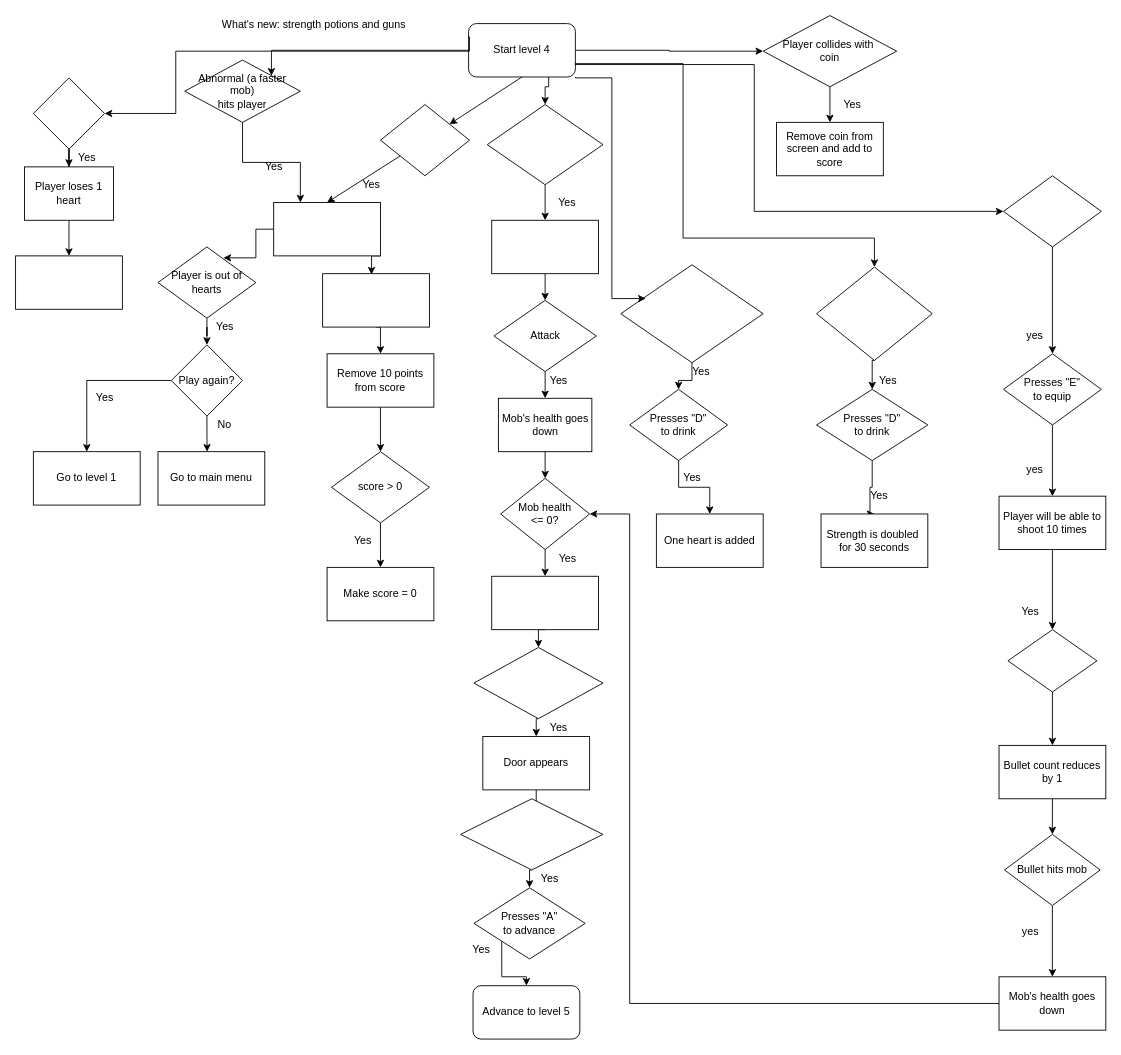
The diagram is 1121 pixels wide and 1055 high, and some of its shapes have lost their labels. Here are the shapes that lost their labels. From the top down, the centre of each, then its label:
At (x=68, y=113): "Player touches lava block".
At (x=424, y=140): "Mob hits player".
At (x=544, y=144): "Player is in range of mob".
At (x=326, y=229): "Player loses one heart".
At (x=1052, y=211): "Player is infront of gun".
At (x=545, y=246): "Player is able to attack mob".
At (x=68, y=282): "10 second cooldown to get out of lava".
At (x=375, y=300): "5 second cooldown".
At (x=691, y=313): "Player is infront of health potion".
At (x=874, y=313): "Player is infront of strength potion".
At (x=545, y=602): "Mob dies, and removed from screen".
At (x=1052, y=660): "Bullet is shot".
At (x=538, y=683): "Mobs are all cleared".
At (x=531, y=834): "Player is infront of door".
